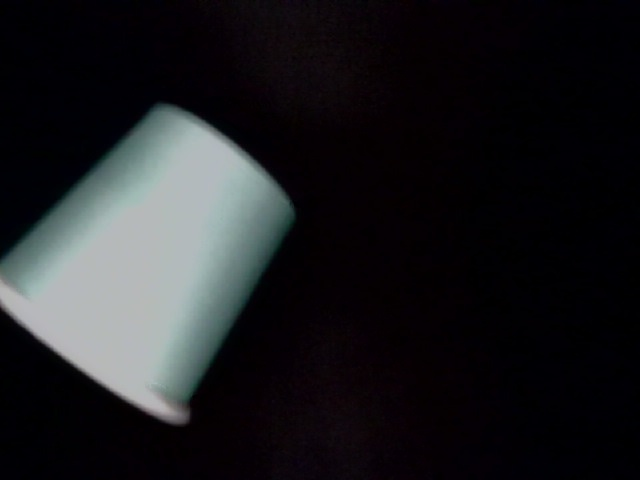KHSLJ: (230, 421, 394, 480)
